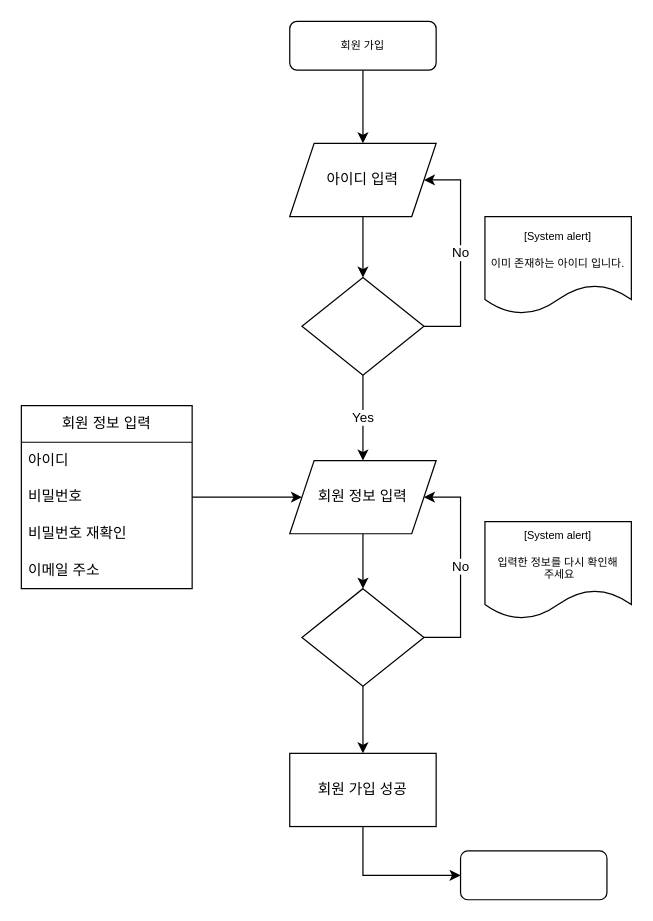
The diagram is 653 pixels wide and 921 high, and some of its shapes have lost their labels. The shapes that lost their labels are listed below. From the top down, each one's centre as x and y in pixels, then its label:
At (362,325): "아이디 중복 여부".
At (362,636): "유효성 체크".
At (533,875): "메인 화면 이동".
